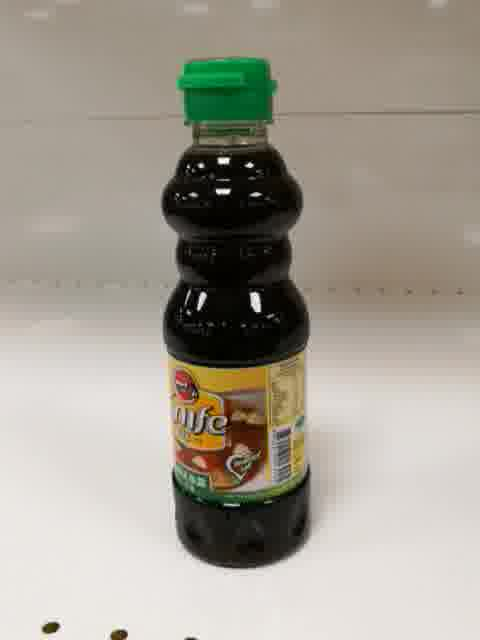cookingoil: (159, 53, 315, 573)
